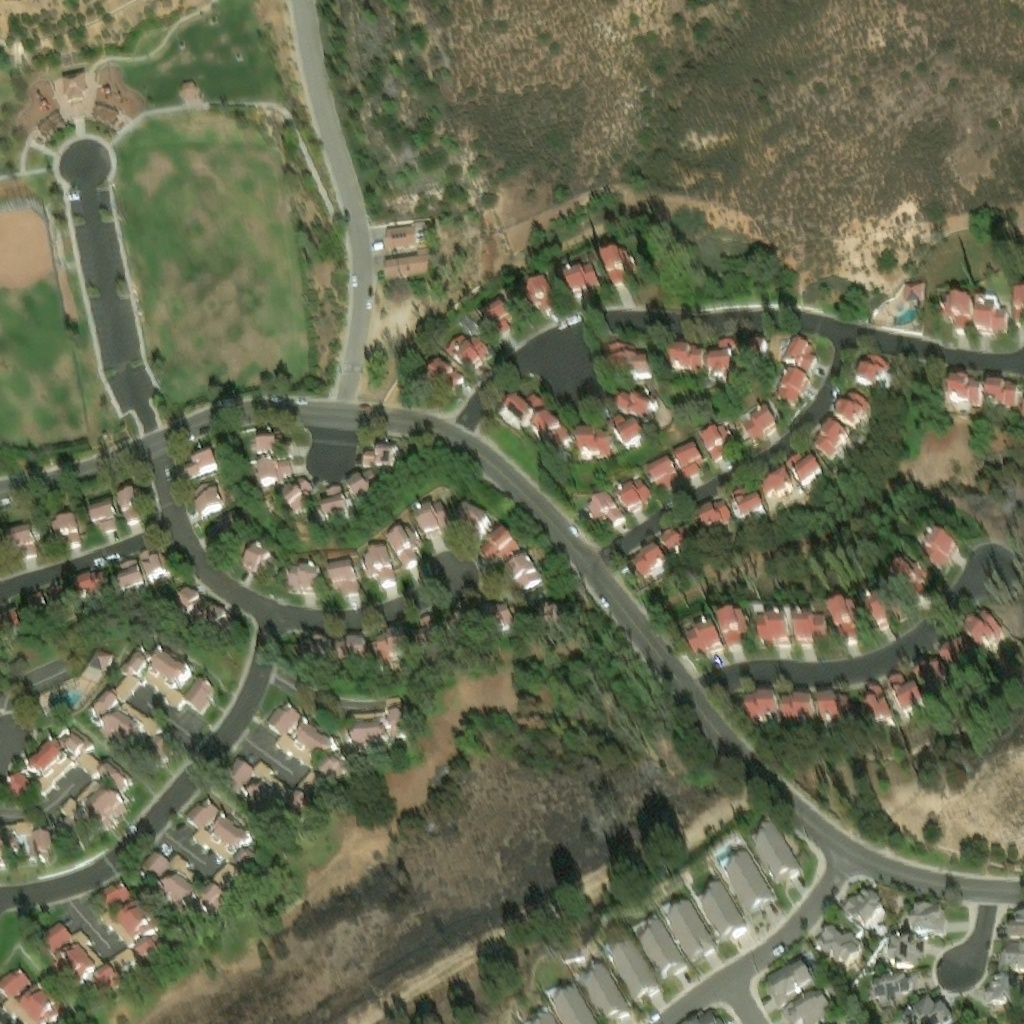0 no-damage: (84, 643, 218, 734), (264, 696, 363, 805), (218, 757, 312, 835), (137, 851, 230, 928), (181, 794, 263, 880), (3, 736, 76, 806), (94, 880, 165, 950), (42, 924, 109, 995), (101, 703, 172, 765), (348, 695, 411, 756), (662, 890, 715, 951), (724, 844, 774, 905), (605, 931, 656, 989), (576, 955, 627, 1010), (0, 824, 55, 875), (759, 945, 813, 995), (695, 873, 742, 927), (752, 821, 799, 875), (77, 791, 131, 837), (636, 907, 680, 963), (17, 574, 80, 613), (548, 976, 598, 1023), (811, 916, 861, 960), (778, 980, 828, 1023), (839, 878, 885, 924), (893, 558, 937, 604), (963, 603, 1007, 649), (5, 993, 71, 1023), (503, 395, 548, 439), (913, 652, 958, 696), (501, 549, 547, 592), (384, 524, 426, 571), (180, 478, 226, 519), (867, 970, 920, 1005), (447, 332, 492, 373), (479, 601, 525, 641), (440, 611, 487, 650), (696, 413, 737, 457), (54, 725, 96, 767), (867, 591, 909, 633), (62, 785, 104, 826), (938, 630, 979, 672), (415, 500, 457, 540), (427, 358, 469, 398), (612, 468, 652, 510), (583, 485, 626, 524), (374, 629, 412, 673), (690, 628, 731, 668), (478, 521, 520, 560), (601, 247, 640, 289), (107, 551, 145, 594), (643, 446, 681, 489), (282, 477, 319, 521), (563, 262, 604, 301), (630, 540, 669, 581), (886, 668, 925, 709), (83, 484, 120, 527), (607, 340, 653, 374), (815, 425, 853, 466), (855, 681, 893, 722), (173, 585, 210, 627), (414, 616, 451, 658), (521, 276, 558, 318), (365, 548, 400, 592), (787, 454, 826, 493), (477, 301, 515, 341), (884, 931, 926, 967), (659, 523, 701, 559), (668, 431, 703, 474), (902, 996, 957, 1023), (603, 408, 643, 445), (200, 607, 238, 645), (202, 512, 240, 550), (837, 398, 875, 436), (740, 401, 779, 438), (695, 497, 734, 534), (830, 602, 866, 642), (720, 619, 755, 660), (329, 559, 363, 601), (924, 531, 958, 573), (321, 487, 354, 530), (704, 333, 738, 374), (907, 896, 945, 932), (99, 760, 135, 798), (69, 565, 107, 601), (299, 634, 339, 668), (240, 543, 277, 579), (731, 485, 768, 521), (536, 416, 573, 451), (776, 368, 810, 406), (109, 478, 142, 517), (976, 293, 1009, 332), (132, 937, 167, 973), (818, 689, 853, 725), (1, 972, 38, 1006), (785, 336, 818, 374), (255, 460, 295, 491), (134, 547, 168, 583), (46, 500, 79, 537), (3, 511, 35, 549), (212, 864, 243, 903), (858, 364, 895, 396), (944, 296, 975, 334), (380, 247, 428, 271), (616, 384, 652, 416), (362, 444, 403, 472), (988, 978, 1018, 1016), (179, 448, 221, 475), (94, 974, 128, 1007), (747, 696, 781, 729), (348, 471, 380, 506), (576, 424, 612, 455), (669, 332, 700, 367), (983, 377, 1019, 407), (683, 998, 726, 1023), (758, 469, 795, 498), (335, 636, 368, 668), (291, 566, 325, 597), (798, 619, 830, 651), (542, 603, 573, 636), (113, 950, 142, 984), (762, 621, 793, 652), (784, 695, 815, 726), (950, 375, 982, 404), (461, 505, 490, 536), (61, 68, 88, 99), (382, 215, 414, 237), (524, 1004, 560, 1023), (1001, 947, 1023, 978), (0, 599, 22, 630), (255, 438, 284, 459), (80, 754, 102, 780), (1007, 913, 1023, 945), (906, 283, 927, 306), (1013, 284, 1023, 323), (183, 82, 200, 103), (809, 1013, 836, 1023)
